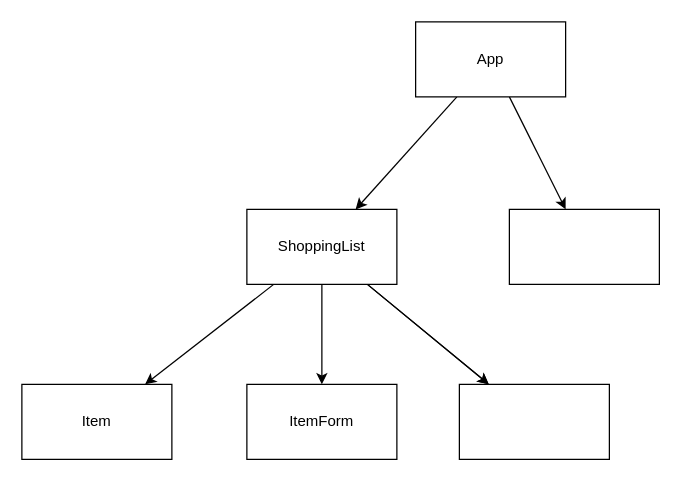
This 681x481 diagram has some shape labels left out. The box of each missing label's shape, as (x1, y1, x2, y2) in pixels:
Filter: (458, 383, 609, 459)
Header: (508, 208, 659, 284)
